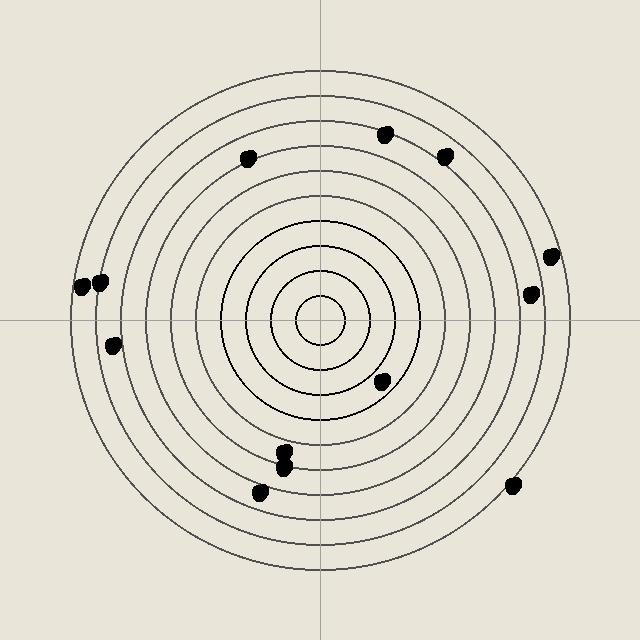random_scatter: (102, 335, 122, 355), (520, 284, 540, 304), (71, 276, 91, 296), (273, 457, 293, 477), (502, 475, 522, 495), (540, 246, 560, 266), (374, 124, 394, 144), (273, 442, 293, 462), (237, 148, 257, 168), (434, 146, 454, 166), (89, 272, 109, 292), (249, 482, 269, 502), (371, 371, 391, 391)
